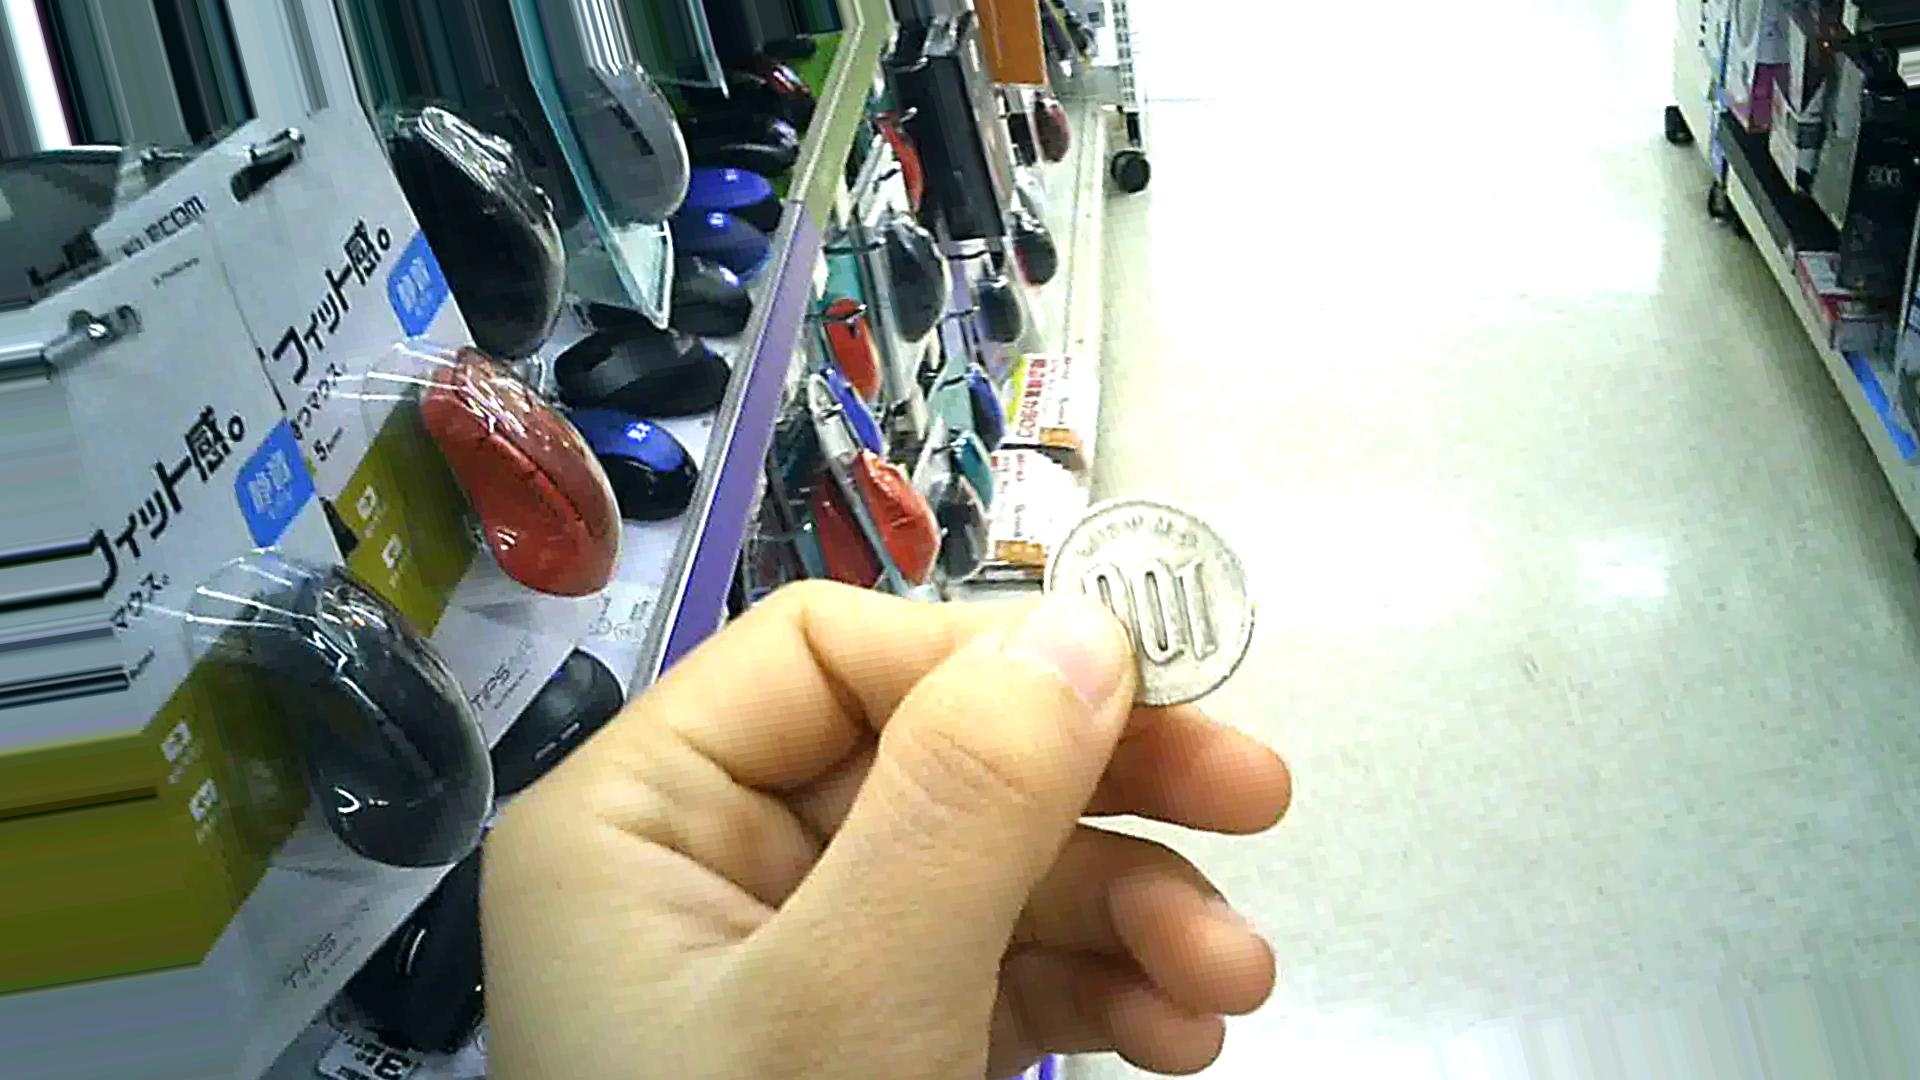100 Yen: (1046, 487, 1261, 717)
